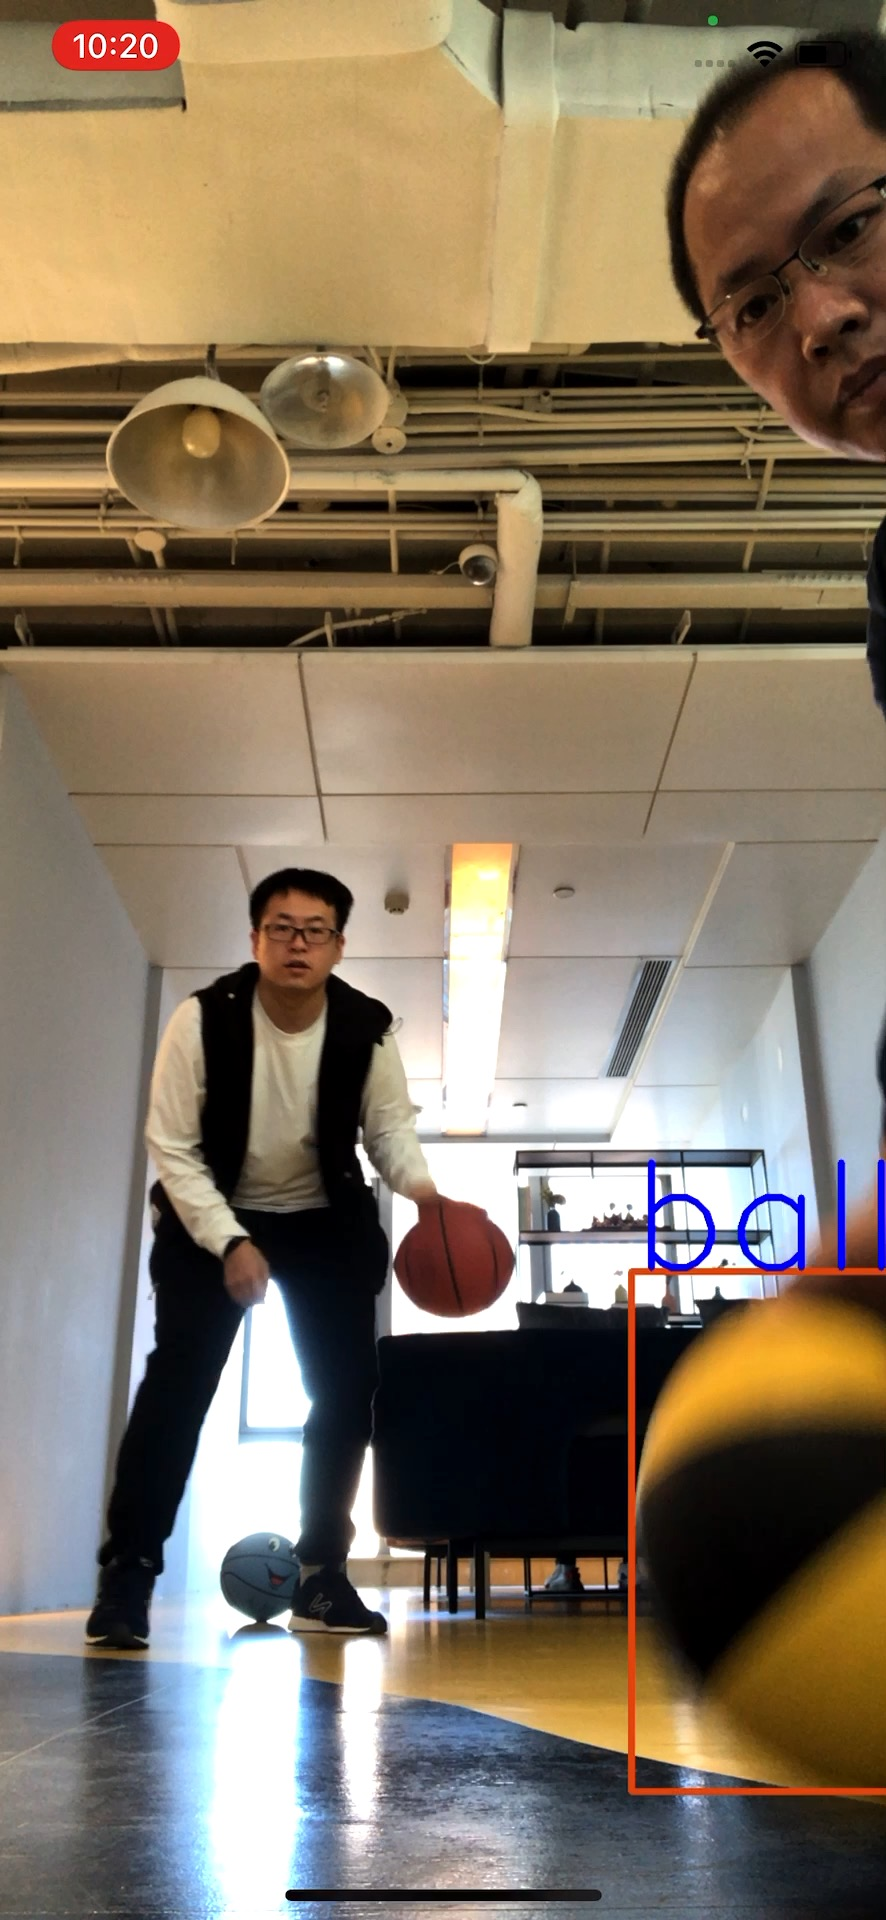ball: (639, 1294, 884, 1791), (401, 1209, 514, 1319), (221, 1533, 294, 1625)
